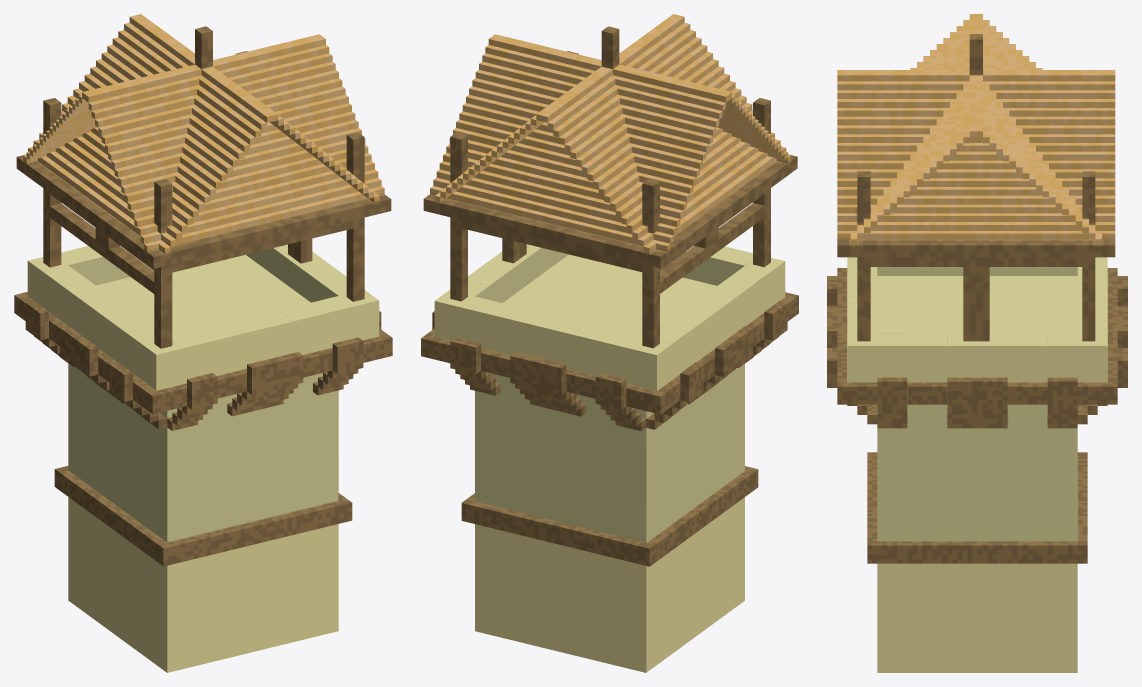
Rendered from Tower_2.glb.
3 views of the same model, side by side, from view 1: azimuth 30°, elevation 25°; view 2: azimuth 150°, elevation 25°; view 3: azimuth 270°, elevation 25° (orthographic).
Visible parts, largest first — view 1: Tower_2; view 2: Tower_2; view 3: Tower_2.
Part boxes in pixels (bbox=[...]): Tower_2: bbox=[14, 14, 392, 672]; Tower_2: bbox=[421, 14, 798, 672]; Tower_2: bbox=[827, 14, 1127, 672].
Bounding box in the file's own units: 6 × 13.08 × 6.
Materials: 3 (2 with a texture image).
